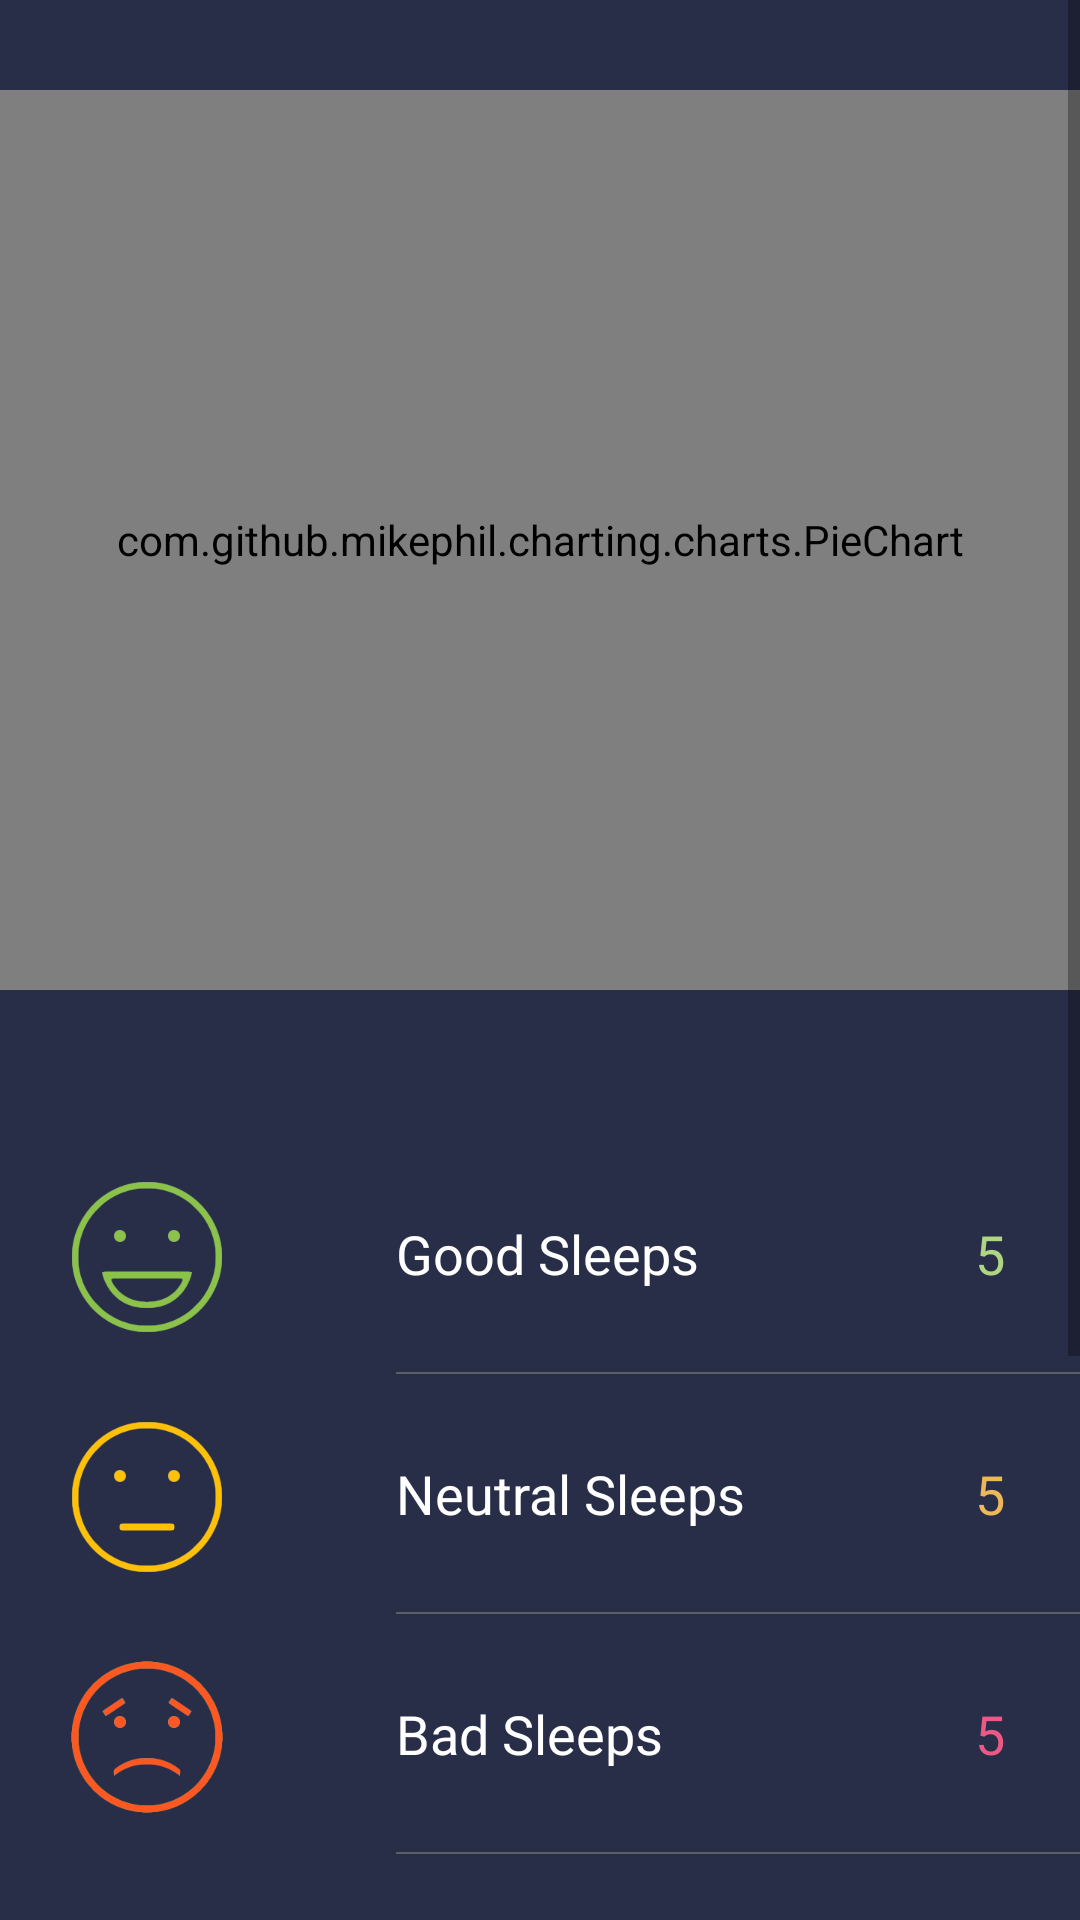

Screen size 1080 x 1920. Icon name, then its center in pixels as [x,y]:
happy face: [147,1257]
neutral face: [147,1497]
sad face: [147,1737]
